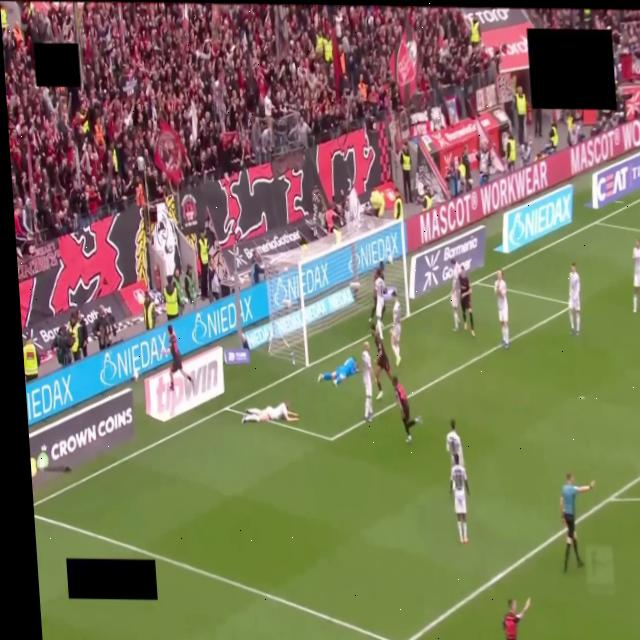player: (392, 377, 422, 443), (163, 325, 192, 390), (371, 324, 393, 399), (451, 463, 468, 542), (458, 266, 475, 337), (242, 402, 299, 422), (318, 357, 357, 386), (503, 599, 531, 639), (495, 271, 509, 348), (361, 342, 373, 421), (369, 261, 384, 323), (391, 291, 402, 366), (446, 419, 463, 466), (569, 263, 580, 335), (374, 276, 386, 339), (450, 259, 460, 332), (633, 238, 639, 312)
referee: (561, 473, 595, 572)
